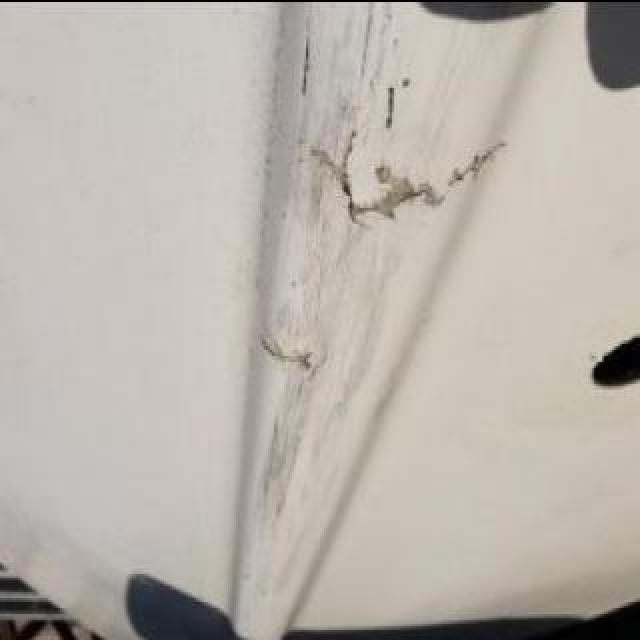crack: (311, 125, 447, 229), (442, 134, 514, 190), (384, 78, 400, 130), (301, 32, 315, 88)
